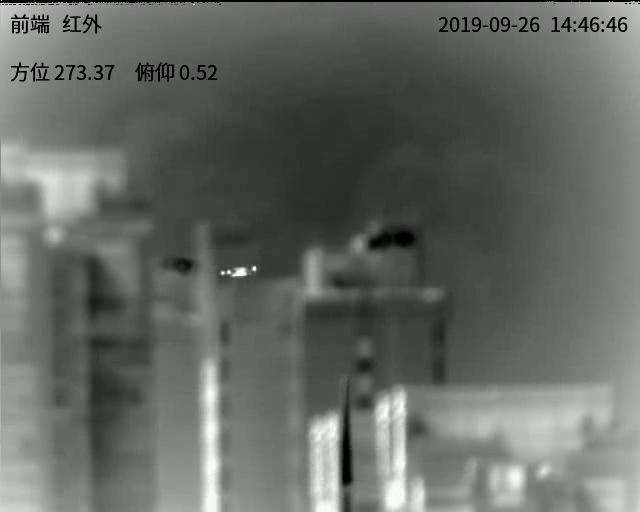DRONE: (220, 265, 258, 279)
